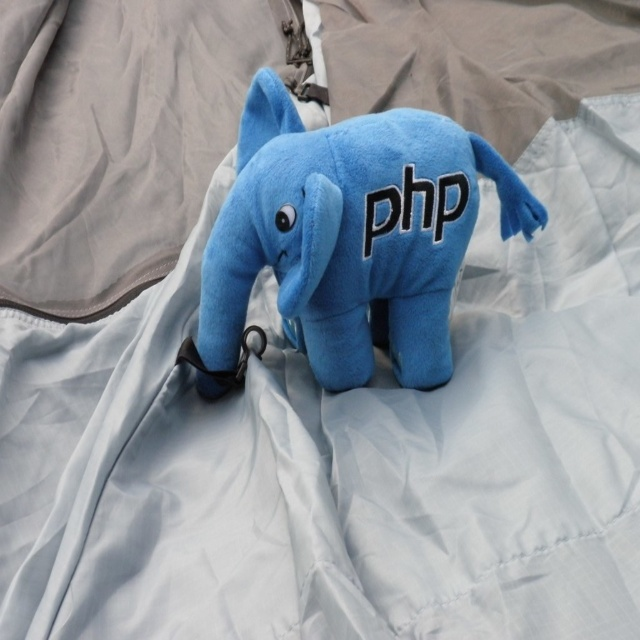Elephant: (193, 66, 549, 403)
